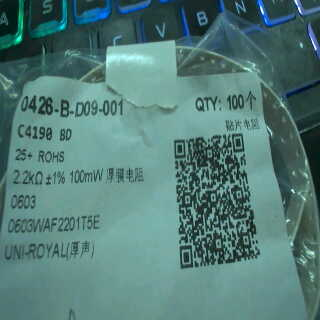2.2kR: (12, 166, 44, 187)
